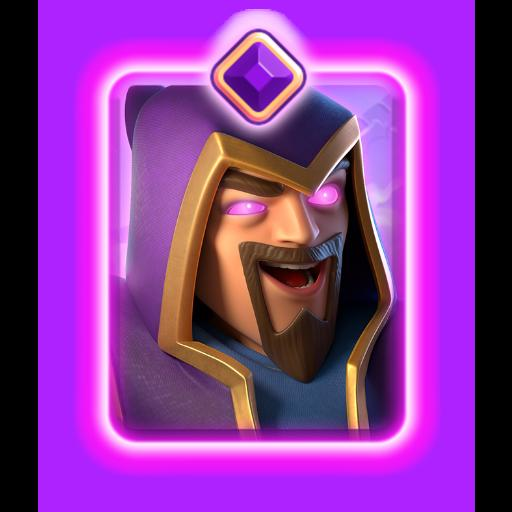wizard-evo: (116, 82, 400, 436)
